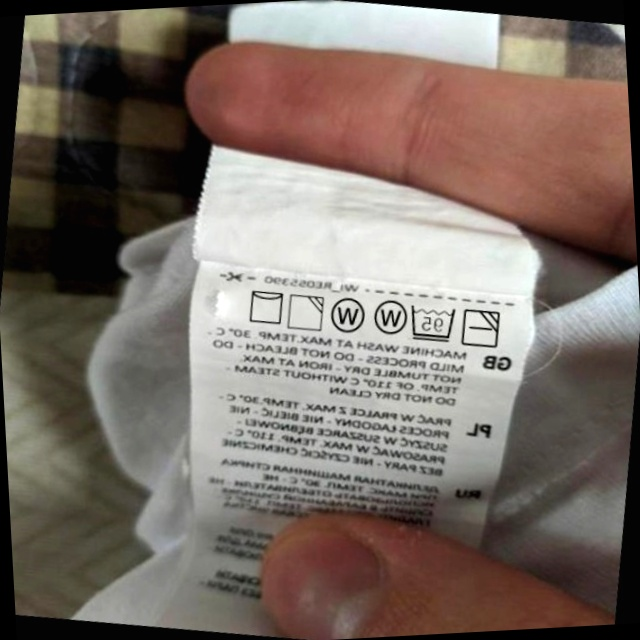95C: (405, 299, 460, 346)
dry_flat_in_shade: (458, 303, 505, 353)
line_dry: (242, 284, 289, 329)
shade_dry: (283, 289, 328, 335)
wet_clean: (326, 293, 369, 339), (368, 293, 410, 339)
